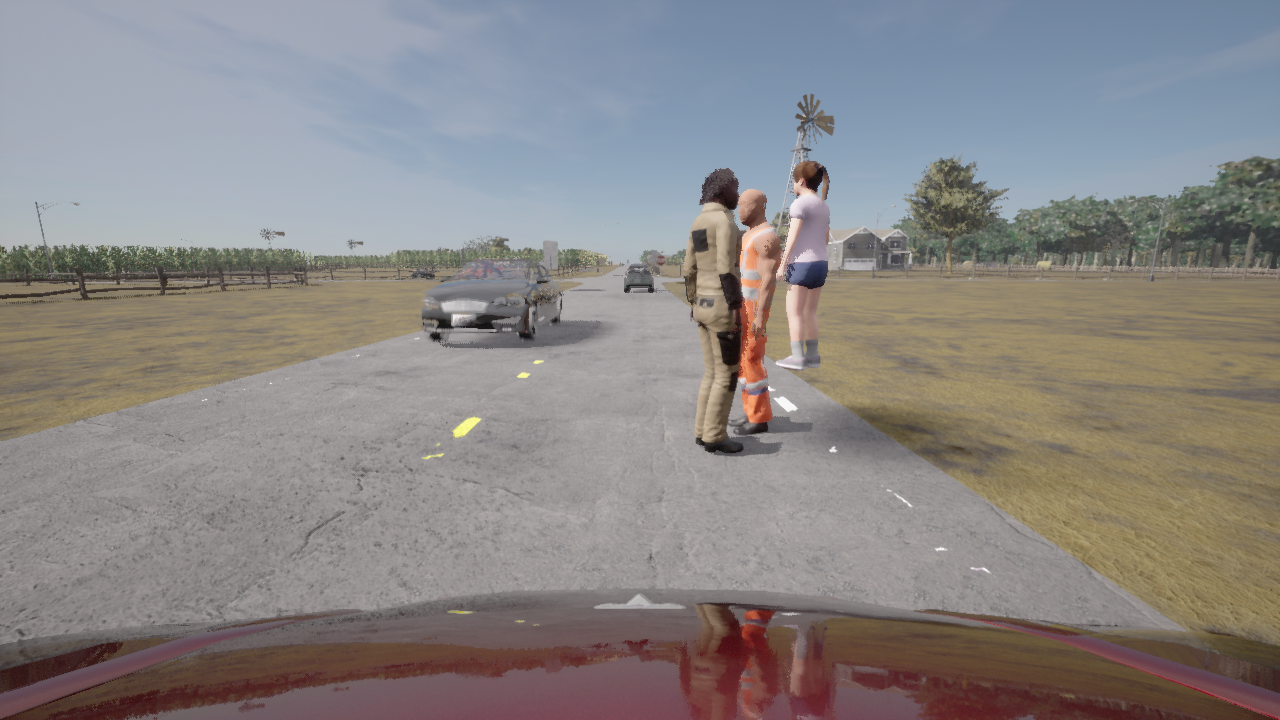cyclist: (0, 588, 1279, 719), (420, 259, 562, 341), (624, 265, 652, 291), (412, 269, 433, 279)
pedestrian: (682, 167, 743, 453), (727, 189, 781, 434), (775, 160, 830, 370), (163, 271, 167, 285)
